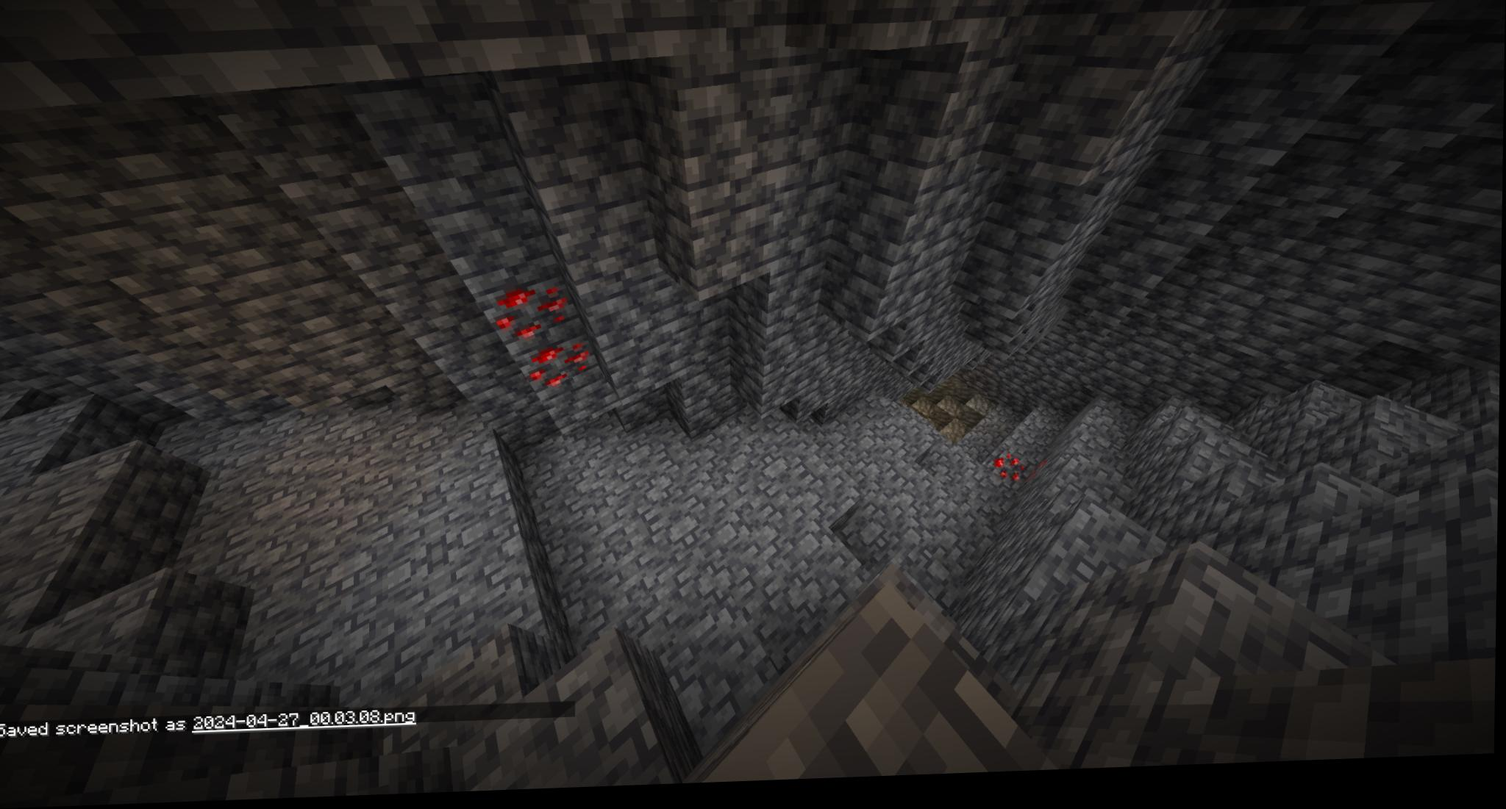redstone ore: (491, 282, 567, 346), (527, 345, 593, 397), (994, 457, 1033, 496)
